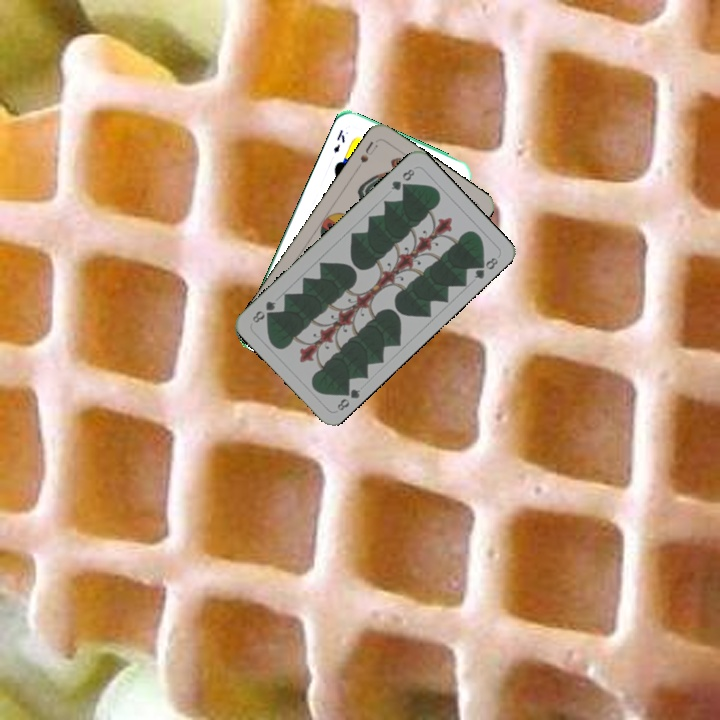EK: (329, 125, 348, 155)
G8: (333, 382, 363, 413), (387, 165, 417, 193)
SU: (356, 137, 381, 165)
